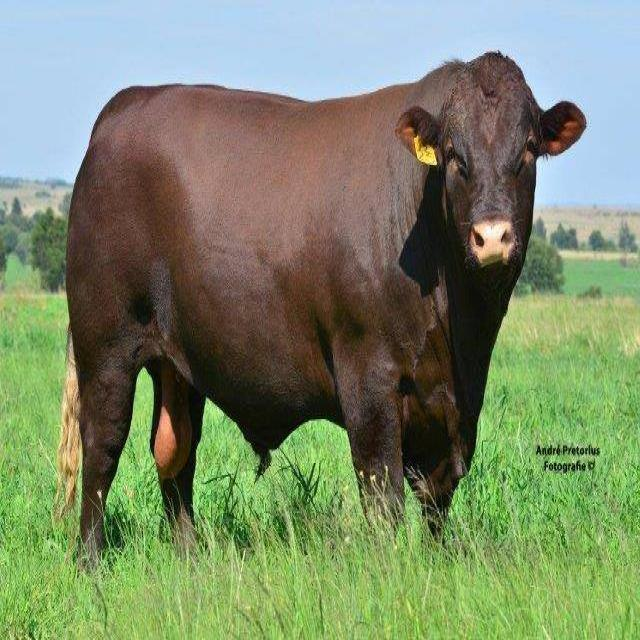cowFace: (387, 39, 590, 301)
